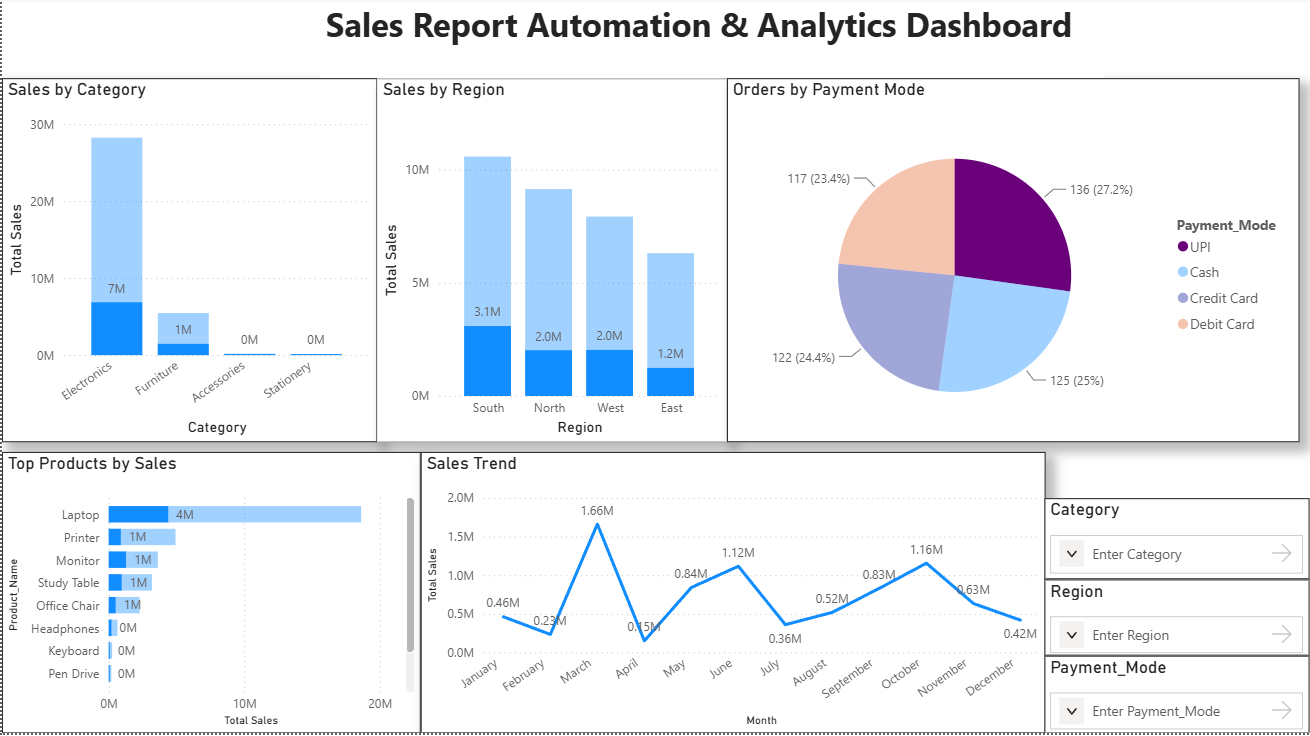

The dashboard page shown, as its layout file describes it:
{"tool":"powerbi","page":{"name":"Page 1","canvas":[1280,720],"ordinal":0},"visuals":[{"type":"clusteredColumnChart","title":"Sales by Category","fields":{"Category":["Sheet1.Category"],"Y":["Sheet1.Total Sales"]},"box":[0,79.5,366.8,355.8],"z":1000},{"type":"clusteredColumnChart","title":"Sales by Region","fields":{"Category":["Sheet1.Region"],"Y":["Sheet1.Total Sales"]},"box":[366.8,79.5,342.4,355.8],"z":2000},{"type":"pieChart","title":"Orders by Payment Mode","fields":{"Category":["Sheet1.Payment_Mode"],"Y":["CountNonNull(Sheet1.Customer_Name)"]},"box":[709.2,79.5,560.1,355.8],"z":3000},{"type":"clusteredBarChart","title":"Top Products by Sales","fields":{"Category":["Sheet1.Product_Name"],"Y":["Sheet1.Total Sales"]},"box":[0,445.1,409.6,275.1],"z":4000},{"type":"lineChart","title":"Sales Trend","fields":{"Y":["Sheet1.Total Sales"],"Category":["Sheet1.Order_Date.Variation.Date Hierarchy.Month"]},"box":[409.6,445.1,611.4,275.1],"z":5000},{"type":"textSlicer","fields":{"Values":["Sheet1.Category"]},"box":[1019.8,490.4,259.2,79.5],"z":6000},{"type":"textSlicer","fields":{"Values":["Sheet1.Region"]},"box":[1019.8,569.8,259.2,74.6],"z":7000},{"type":"textSlicer","fields":{"Values":["Sheet1.Payment_Mode"]},"box":[1019.8,644.4,259.2,75.8],"z":8000},{"type":"textbox","box":[311.8,0,766.7,79.5],"z":8001}]}

Visuals, with their boxes in screenshot pixels (x1, y1, x2, y2), scaled from the page's 1280x720 canvas onto the 1310x736 screenshot:
"Sales by Category" clusteredColumnChart: 0:81:375:445
"Sales by Region" clusteredColumnChart: 375:81:726:445
"Orders by Payment Mode" pieChart: 726:81:1299:445
"Top Products by Sales" clusteredBarChart: 0:455:419:735
"Sales Trend" lineChart: 419:455:1045:735
textSlicer - Sheet1.Category: 1044:501:1309:583
textSlicer - Sheet1.Region: 1044:582:1309:659
textSlicer - Sheet1.Payment_Mode: 1044:659:1309:735
textbox: 319:0:1104:81
